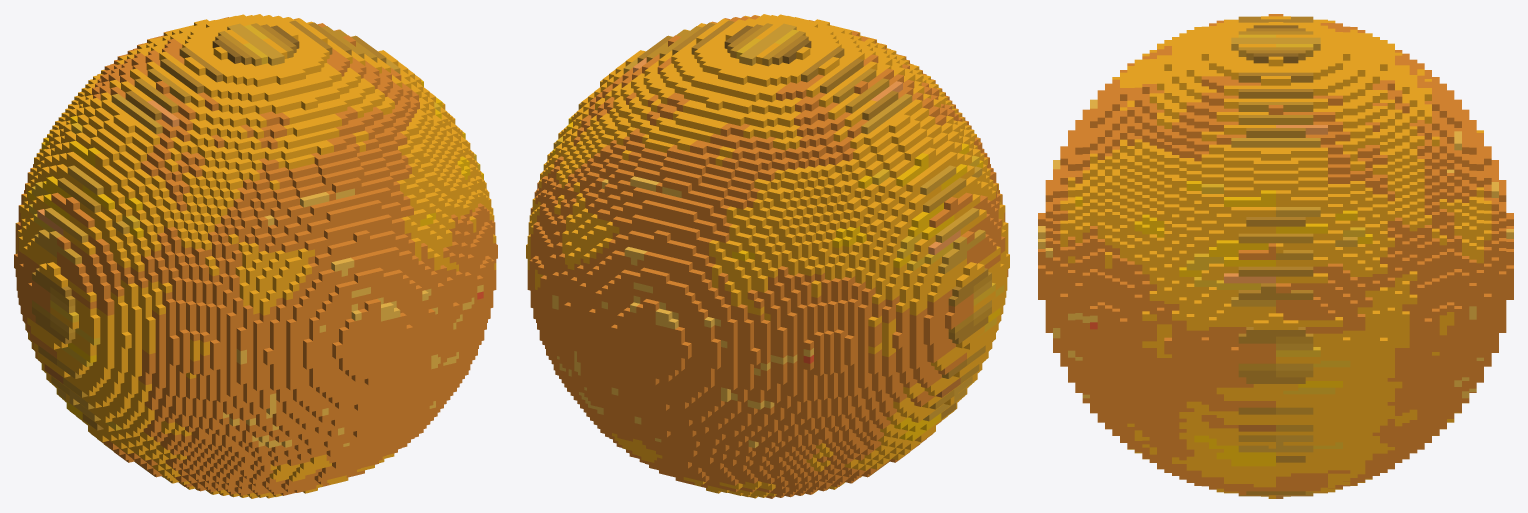
File: sun.glb
3 renders of one model, left to right at view 1: azimuth 30°, elevation 25°; view 2: azimuth 150°, elevation 25°; view 3: azimuth 270°, elevation 25°, orthographic.
Parts seen in each view (by area): view 1: Voxel Sun; view 2: Voxel Sun; view 3: Voxel Sun.
Boxes of the visible parts, x1,y1,x2,y2 form: Voxel Sun: [14, 14, 497, 498]; Voxel Sun: [526, 14, 1009, 498]; Voxel Sun: [1038, 14, 1513, 498].
Bounding box in the file's own units: 19.2 × 19.2 × 19.2.
Materials: 1 (1 with a texture image).
